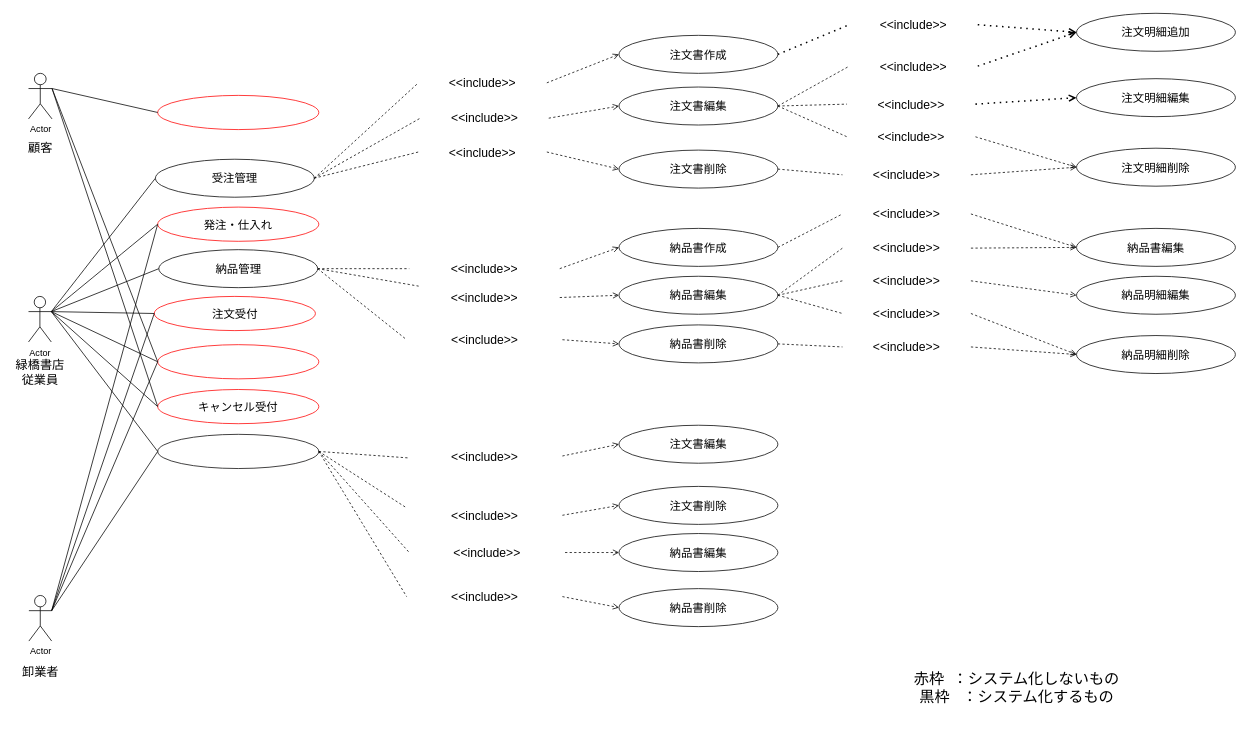
Image size: 1249x742. Some labels were removed from this diagram. The shapes that lost their labels are listed below. From the top down, each one's centre as x and y in pixels, then its label:
point (238, 112): 注文
point (238, 361): 納品
point (238, 451): キャンセル
